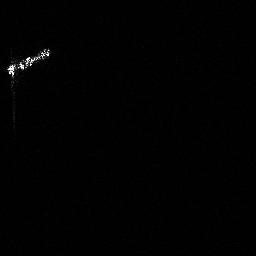ship: (4, 44, 53, 80)
